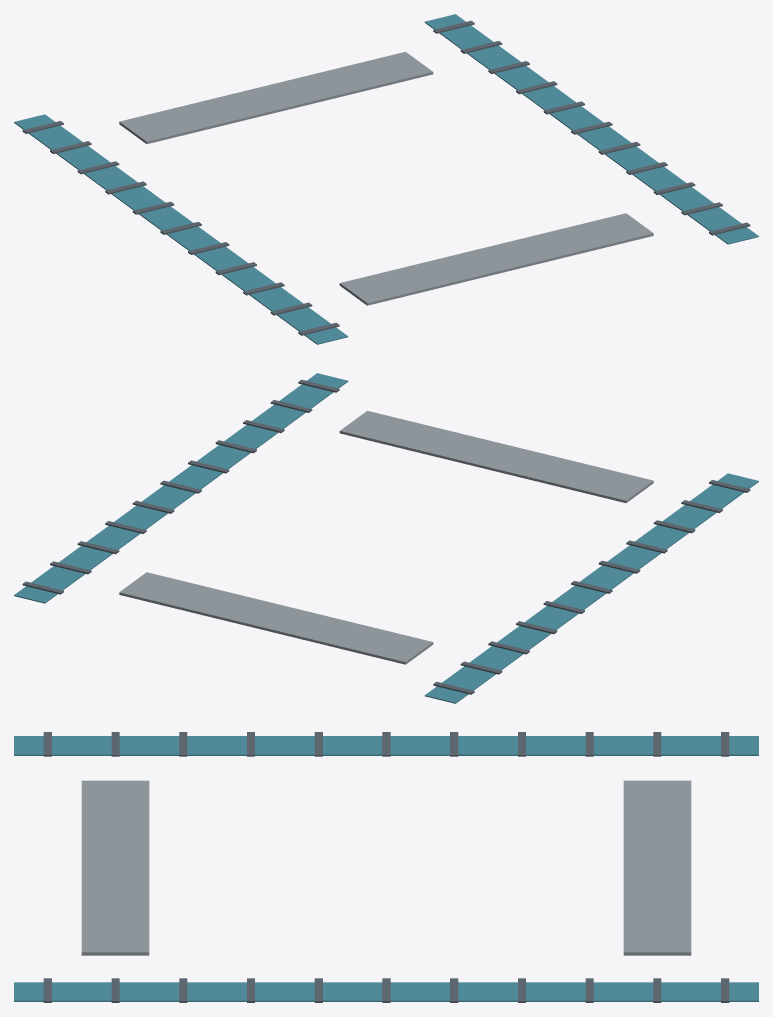
Rendered from 4_Room.fbx.
3 views of the same model, one above another, from view 1: azimuth 30°, elevation 25°; view 2: azimuth 150°, elevation 25°; view 3: azimuth 270°, elevation 25° (orthographic). The views are drawn at different scales.
Visible parts, largest first — view 1: Body; view 2: Body; view 3: Body.
Boxes of the visible parts, x1,y1,x2,y2 form: Body: (14,14,758,344); Body: (14,373,758,703); Body: (14,732,758,1002).
Size of the model in its own units: 9.4 by 0.05 by 11.
